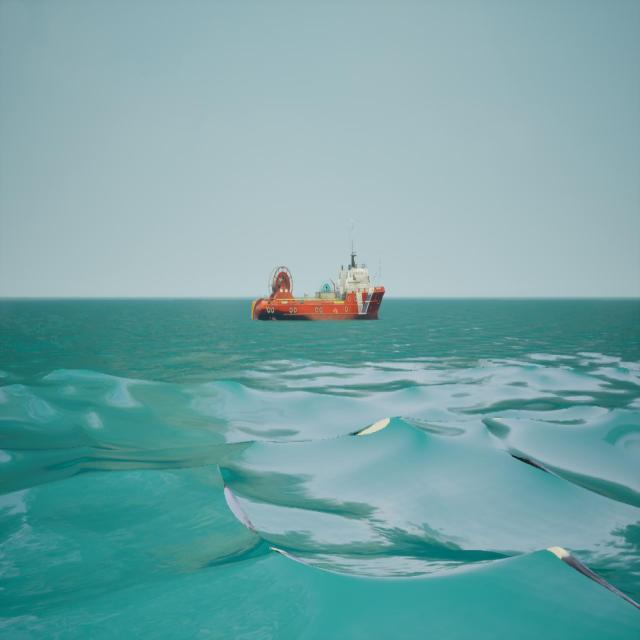tug boat: (252, 224, 386, 324)
